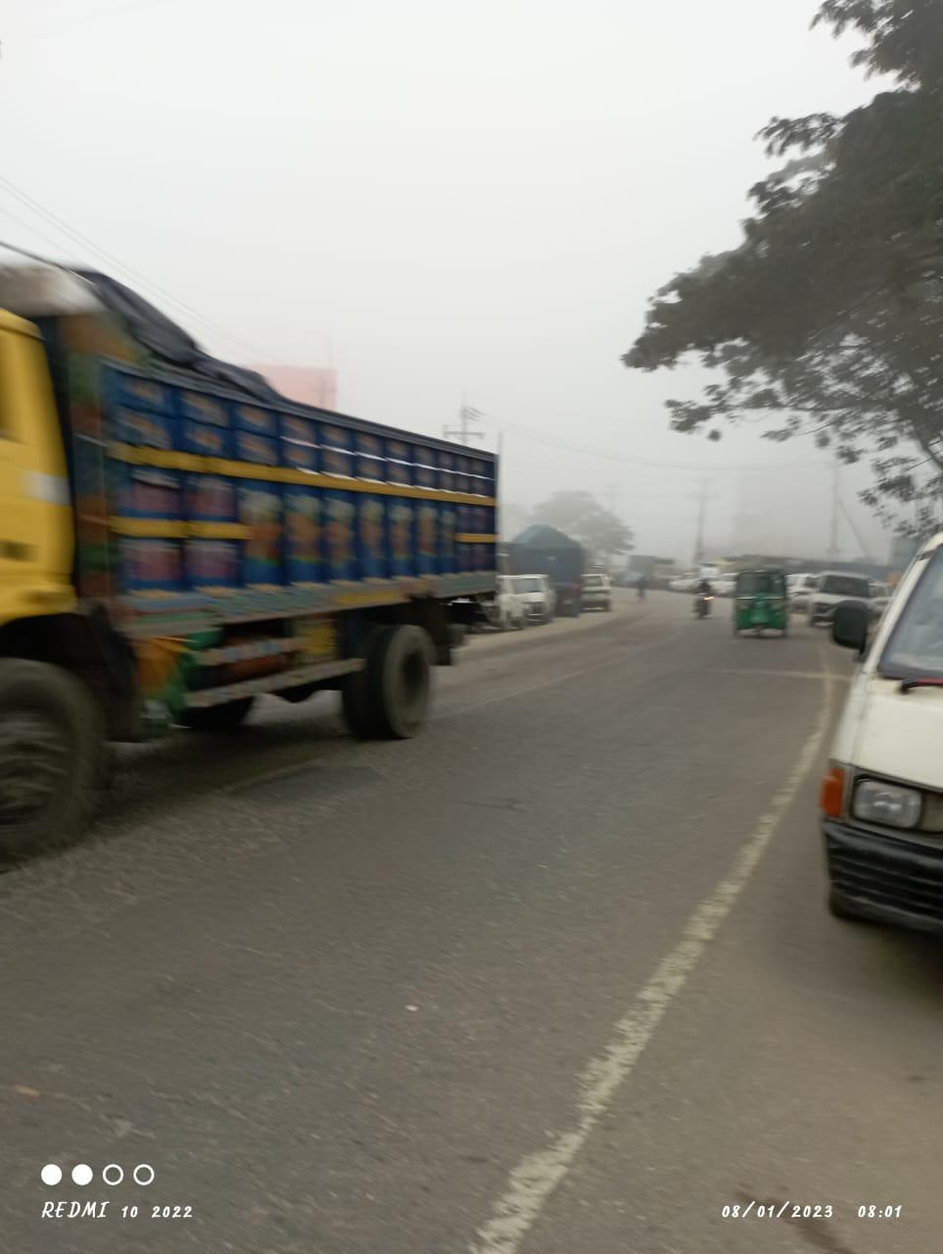Car: (683, 565, 723, 630)
Truck: (5, 235, 507, 795)
